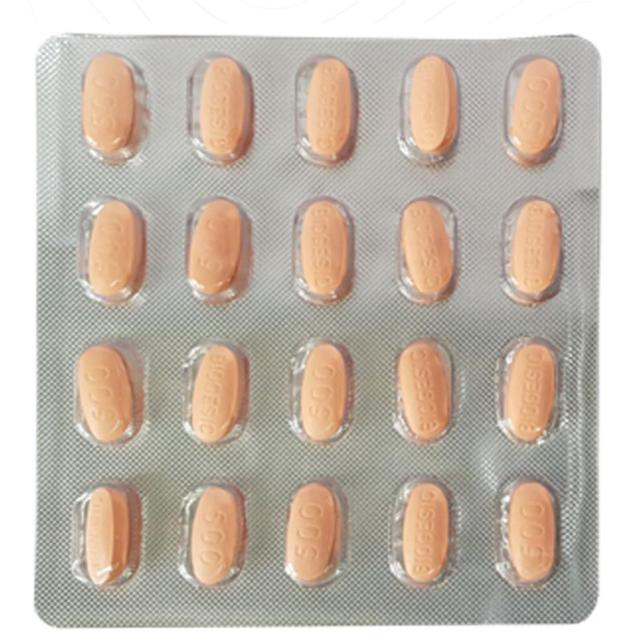blister: (30, 25, 606, 628)
